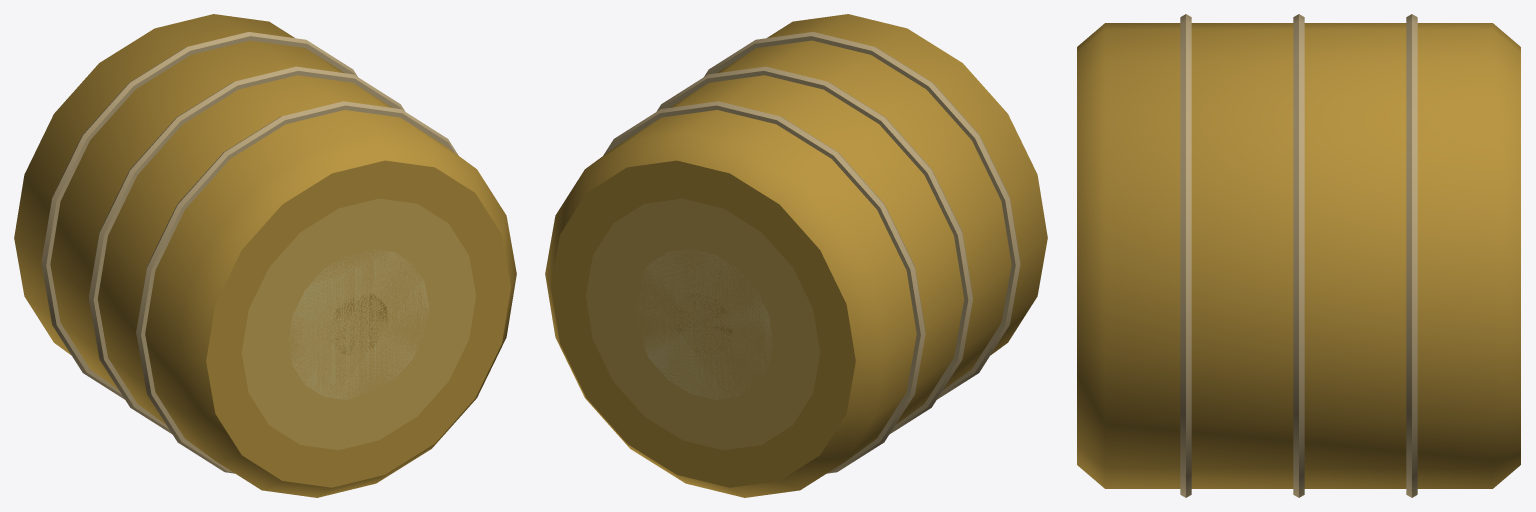
Rendered from bale_round.glb.
The picture shows the model from 3 angles, left to right: view 1: azimuth 30°, elevation 25°; view 2: azimuth 150°, elevation 25°; view 3: azimuth 270°, elevation 25°; orthographic projection. The views are drawn at different scales.
Parts seen in each view (by area): view 1: HayBaleRound; view 2: HayBaleRound; view 3: HayBaleRound.
Part boxes in pixels (left/top/right/bottom): HayBaleRound: left=14, top=14, right=516, bottom=497; HayBaleRound: left=545, top=14, right=1047, bottom=497; HayBaleRound: left=1077, top=14, right=1520, bottom=497.
Size of the model in its own units: 1.2 by 1.19 by 1.1.
